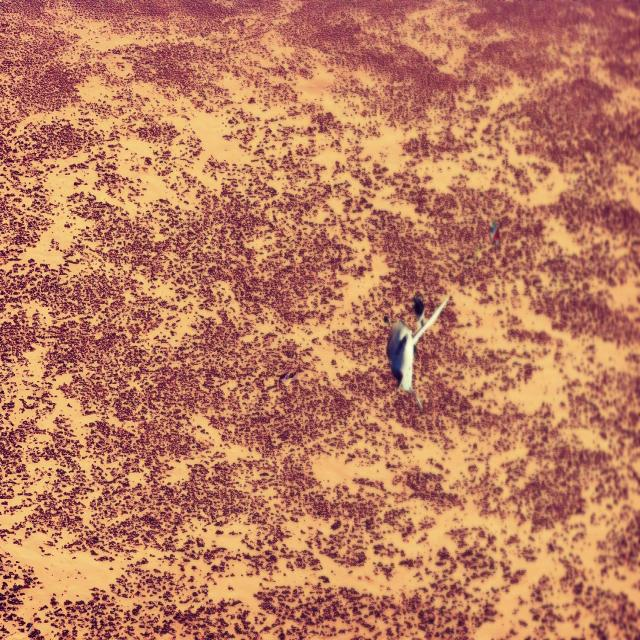airplane: (384, 293, 449, 411)
